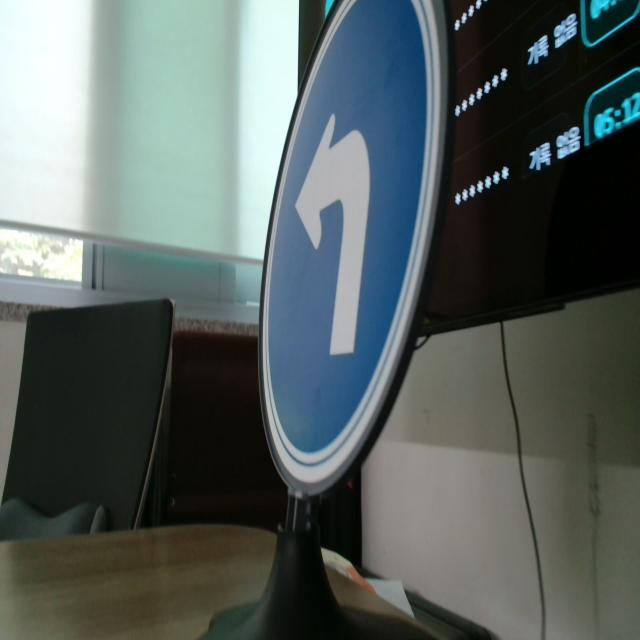left_direction: (252, 0, 443, 504)
